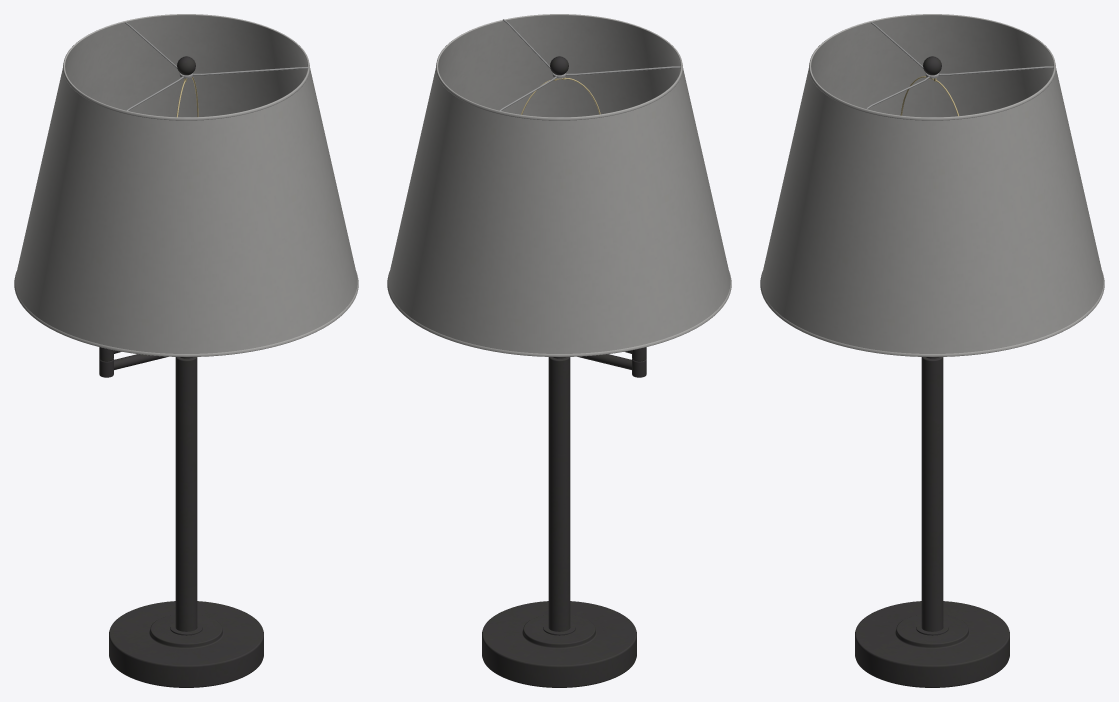
The model's file is lamp_B07DBJJ5R9.glb.
3 renders of one model, left to right at view 1: azimuth 30°, elevation 25°; view 2: azimuth 150°, elevation 25°; view 3: azimuth 270°, elevation 25°, orthographic.
Parts seen in each view (by area): view 1: RootNode; view 2: RootNode; view 3: RootNode.
Part boxes in pixels (left/top/right/bottom): RootNode: left=14, top=14, right=358, bottom=687; RootNode: left=387, top=14, right=731, bottom=687; RootNode: left=760, top=14, right=1104, bottom=687.
Size of the model in its own units: 0.3631 by 0.6957 by 0.3631.
1 material, 1 textured.
